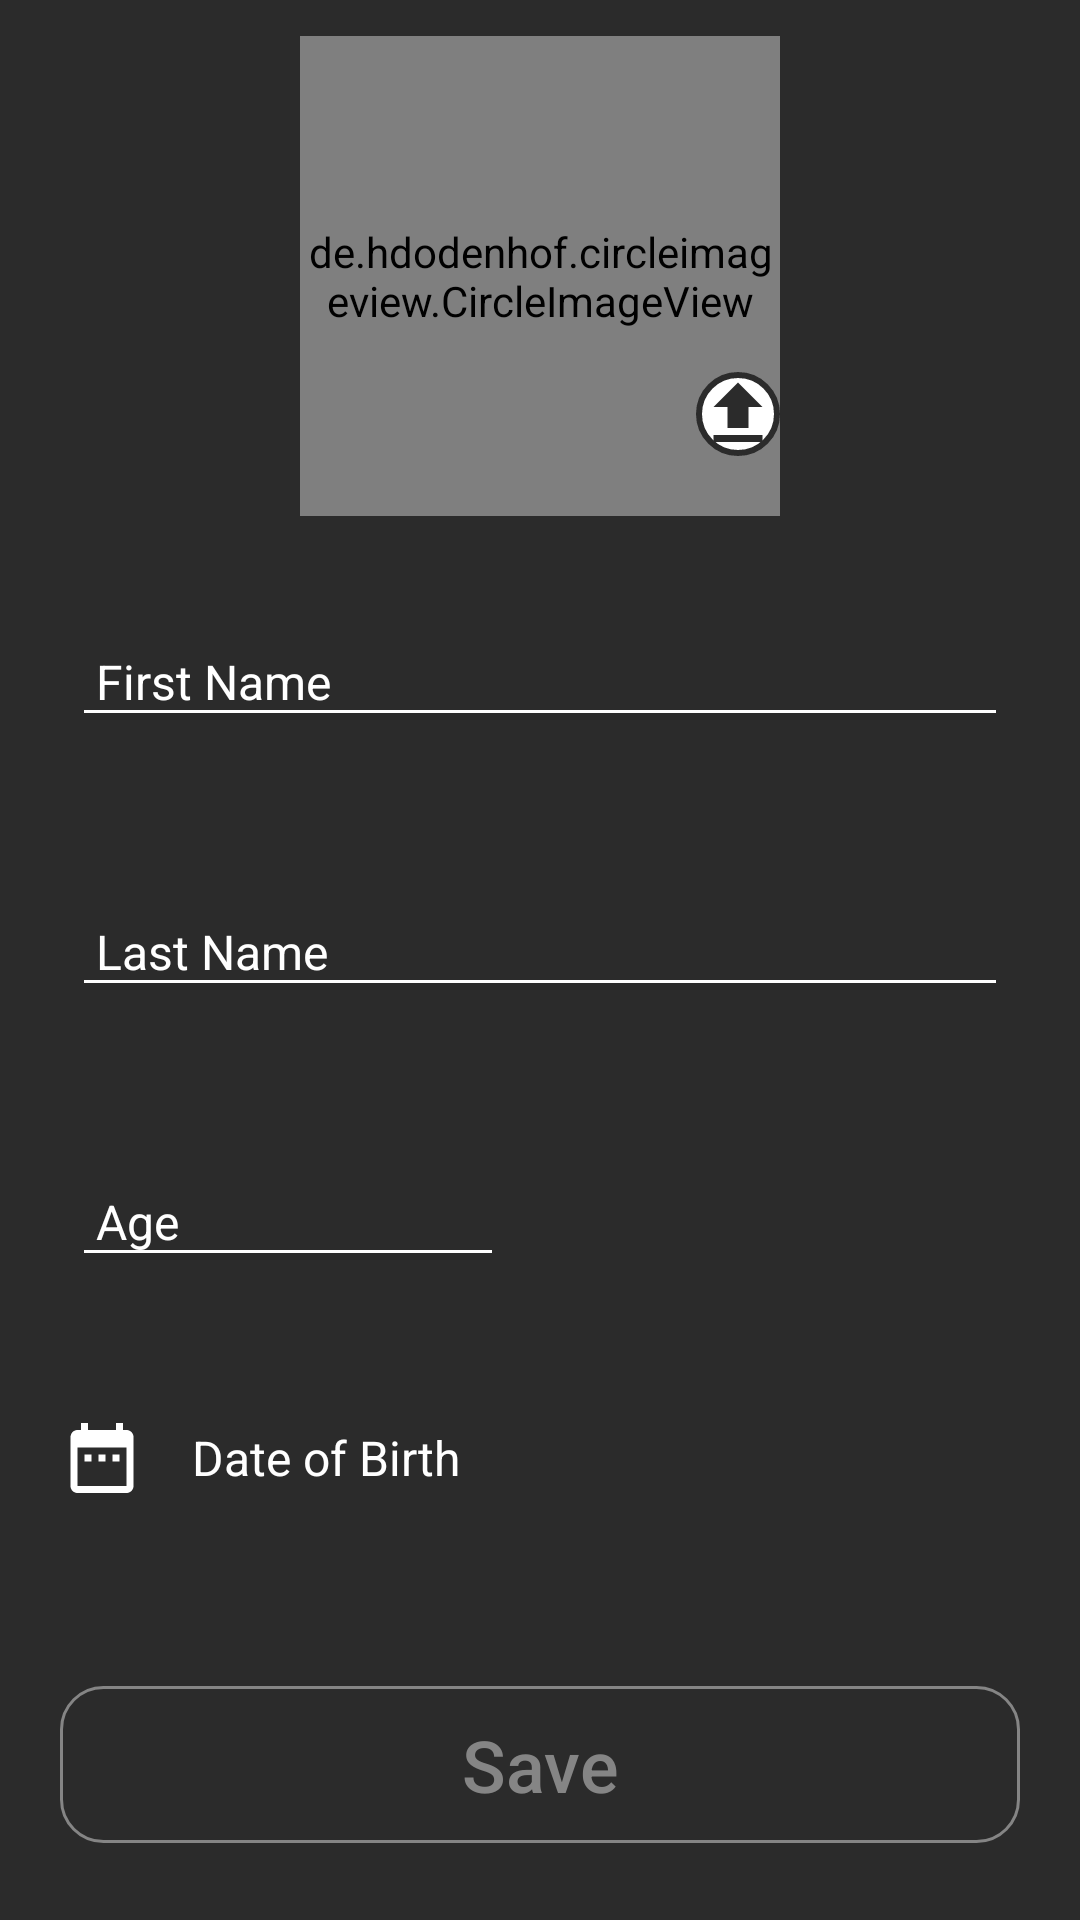

Where icons sit on this 1080px×1920px app screen, as [x1,y1,x2,y2]:
Upload icon: [696,372,780,456]
